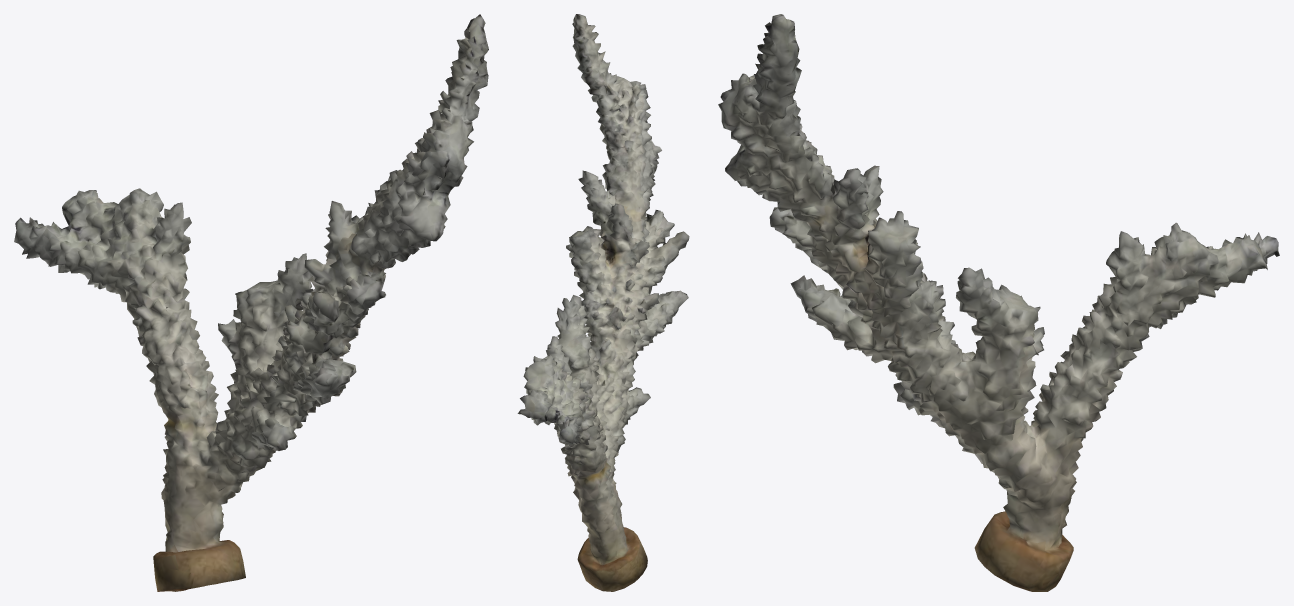
The model's file is staghorn.glb.
3 renders of one model, left to right at view 1: azimuth 30°, elevation 25°; view 2: azimuth 150°, elevation 25°; view 3: azimuth 270°, elevation 25°, orthographic. The views are drawn at different scales.
Visible parts, largest first — view 1: prop; view 2: prop; view 3: prop.
Boxes of the visible parts, left/top/right/bottom form: prop: left=14, top=14, right=488, bottom=591; prop: left=517, top=14, right=689, bottom=591; prop: left=718, top=14, right=1279, bottom=591.
Bounding box in the file's own units: 0.391 × 0.9999 × 0.779.
Materials: 1 (1 with a texture image).
